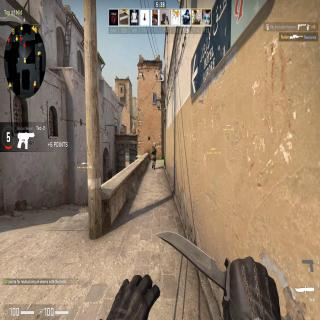CT-Body: (150, 140, 158, 164)
CT-Head: (154, 142, 156, 148)
